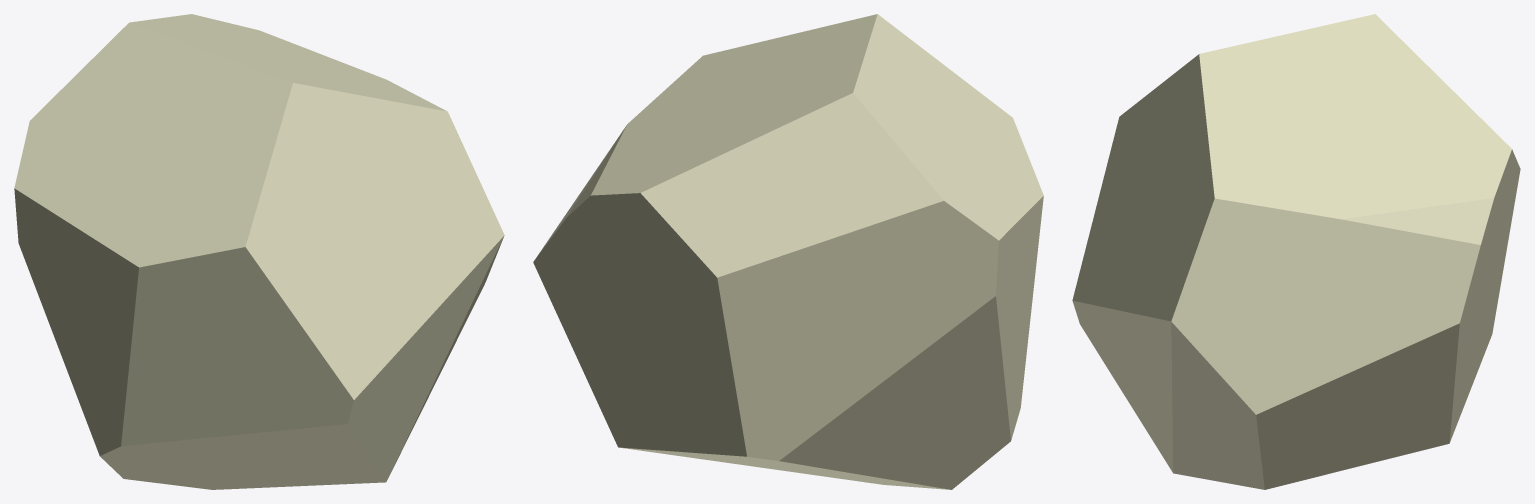
Rendered from piedra peque 3.fbx.
3 renders of one model, left to right at view 1: azimuth 30°, elevation 25°; view 2: azimuth 150°, elevation 25°; view 3: azimuth 270°, elevation 25°, orthographic. The views are drawn at different scales.
Visible parts, largest first — view 1: Rock_03; view 2: Rock_03; view 3: Rock_03.
Boxes of the visible parts, x1,y1,x2,y2 form: Rock_03: [14, 14, 504, 489]; Rock_03: [533, 14, 1043, 489]; Rock_03: [1072, 14, 1520, 489].
Bounding box in the file's own units: 312 × 306 × 306.
